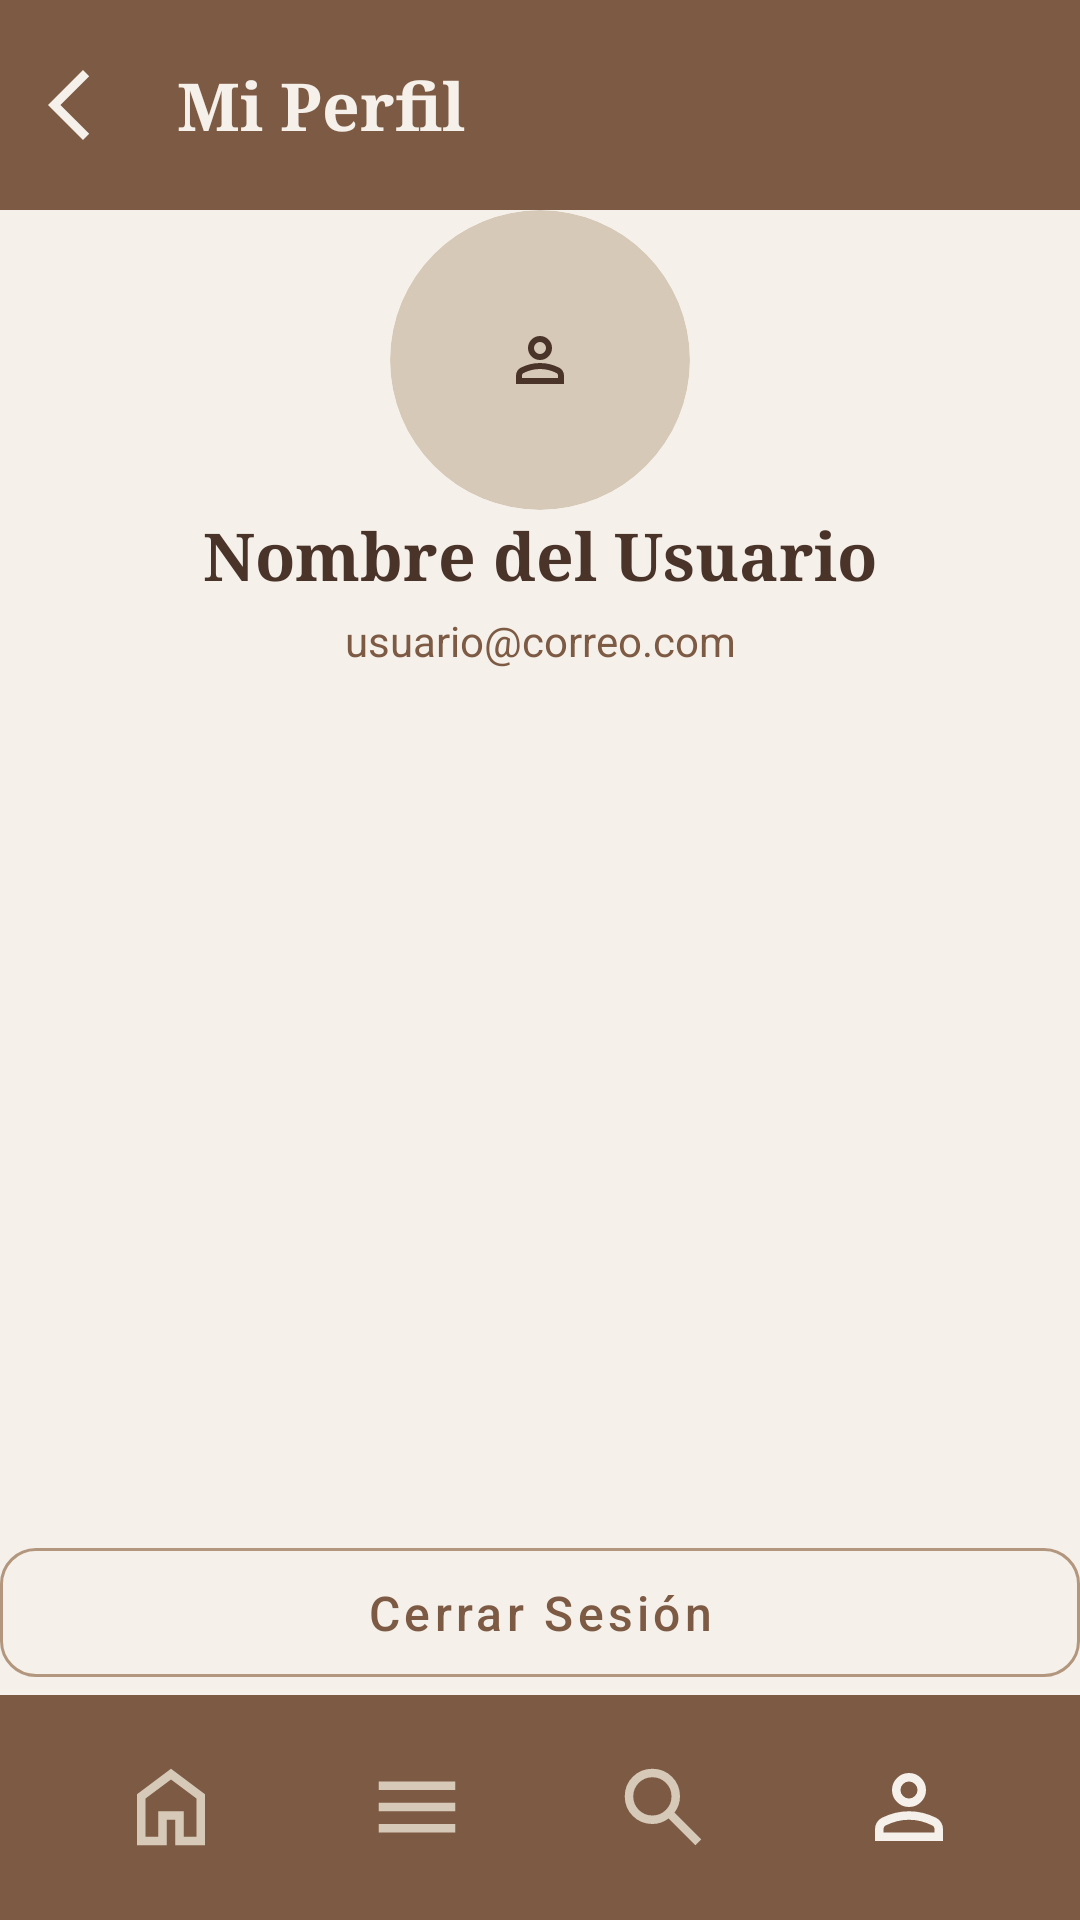

Icons on this 1080px×1920px Android screen, each with the point to tap as [x,y]:
flecha left: [68,105]
home: [171,1807]
lista: [417,1807]
lupa: [662,1806]
